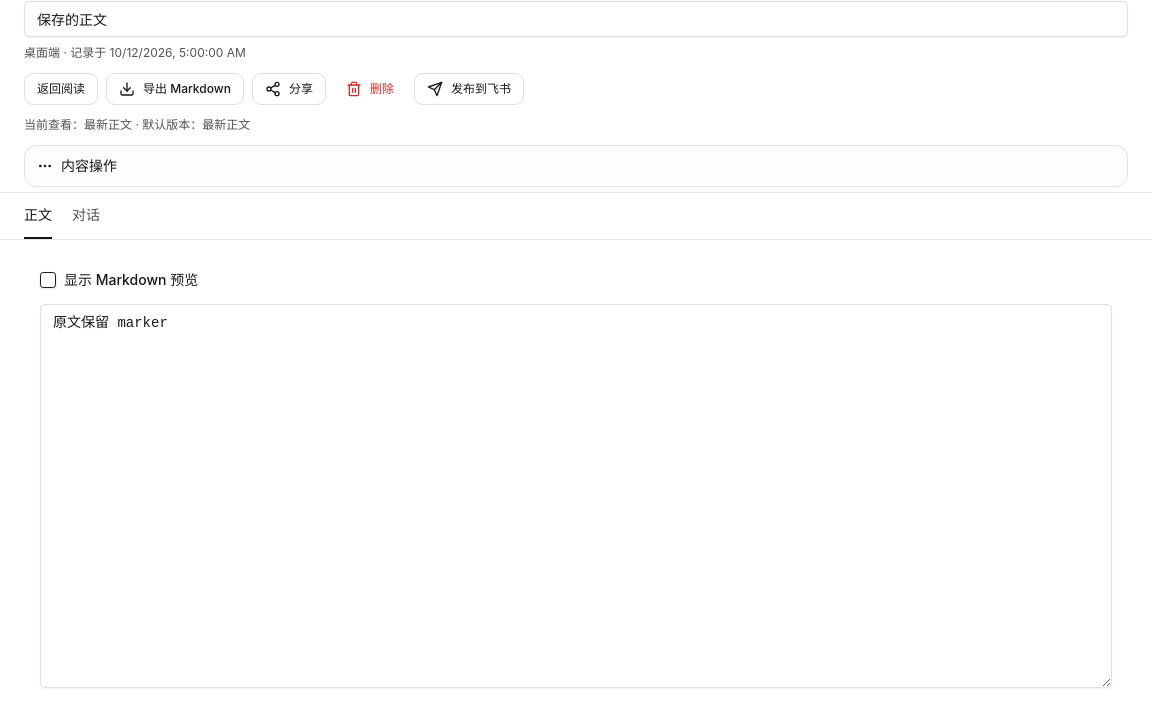
Test case: enters editing from the list intent and preserves a modified draft on canceled deletion
(page scrolled)
Replace the text in the text box named "笔记正文" with "尚未保存 marker" at (576, 496), box [40, 304, 1112, 688]
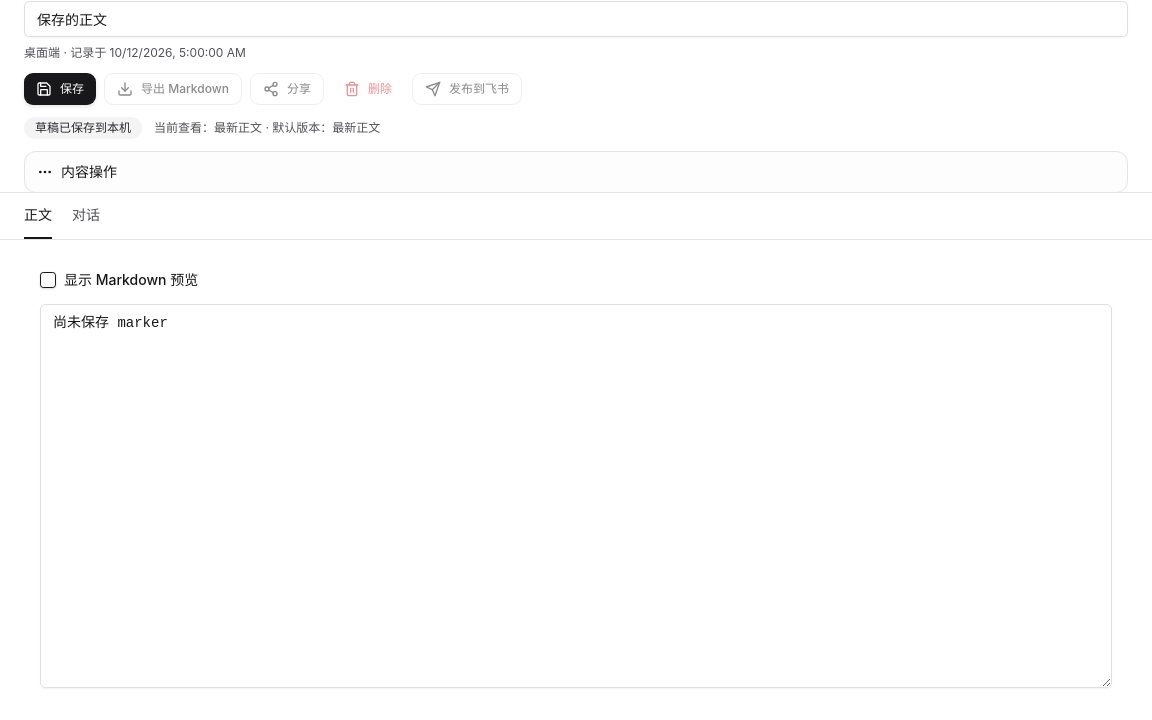
Now the button "删除" is disabled, box [332, 73, 404, 105]
Now the button "分享" is disabled, box [250, 73, 324, 105]
Now the button "导出 Markdown" is disabled, box [104, 73, 242, 105]
